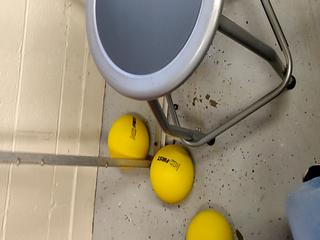power_cell: (148, 143, 199, 206), (104, 106, 155, 169), (185, 209, 236, 240)
